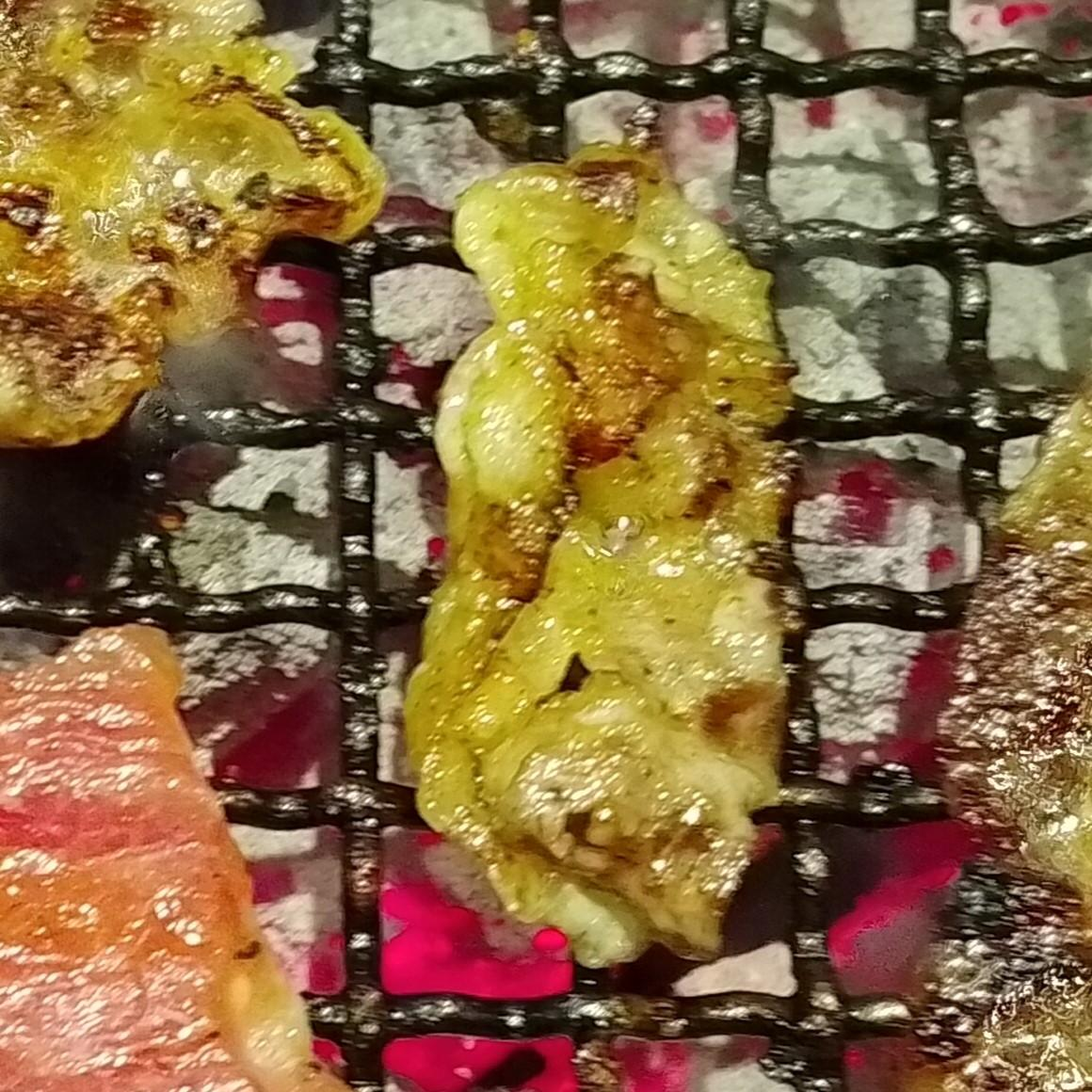Overcooked: (0, 0, 382, 452), (941, 375, 1091, 1091)
Undercooked: (0, 625, 341, 1091)
Well-Cooked: (399, 138, 806, 978)
